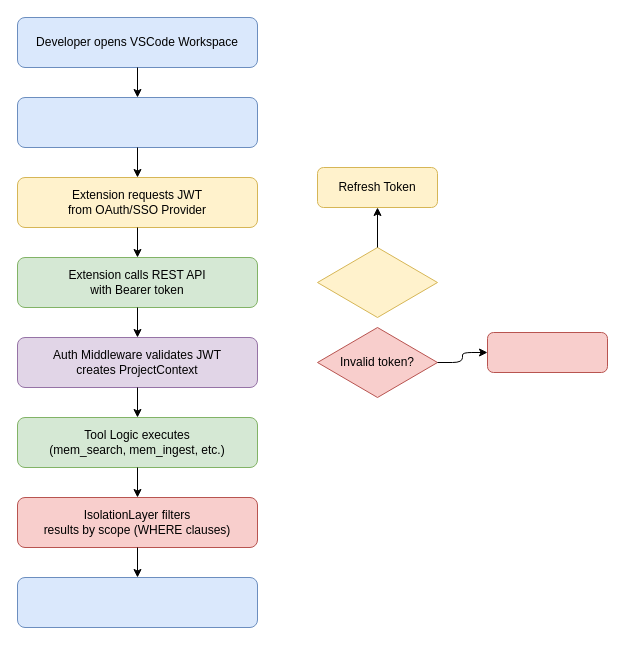
The diagram is 625 pixels wide and 645 high, and some of its shapes have lost their labels. The box of each missing label's shape, as (x1, y1, x2, y2) in pixels:
Extension detects workspace + git repo: (16, 96, 258, 148)
HTTP 401 Unauthorized: (486, 332, 608, 372)
Only authorized data returned to developer: (16, 576, 258, 628)
Token expired?: (316, 246, 438, 318)
